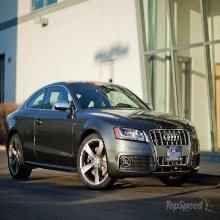no damage: (4, 80, 201, 190)
wwwwwwwwwww: (5, 81, 202, 190)
